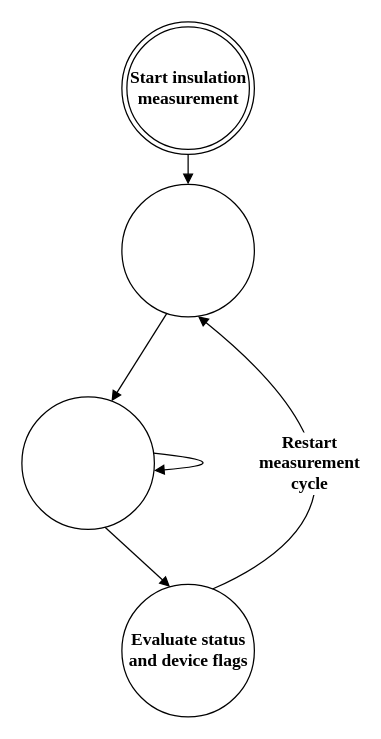
Image size: 381x739. Some labels were removed from this diagram. Each missing label, with the centre of its shape:
Evaluate measurement result: point 87,462
Request resistance measurement values: point 187,250
